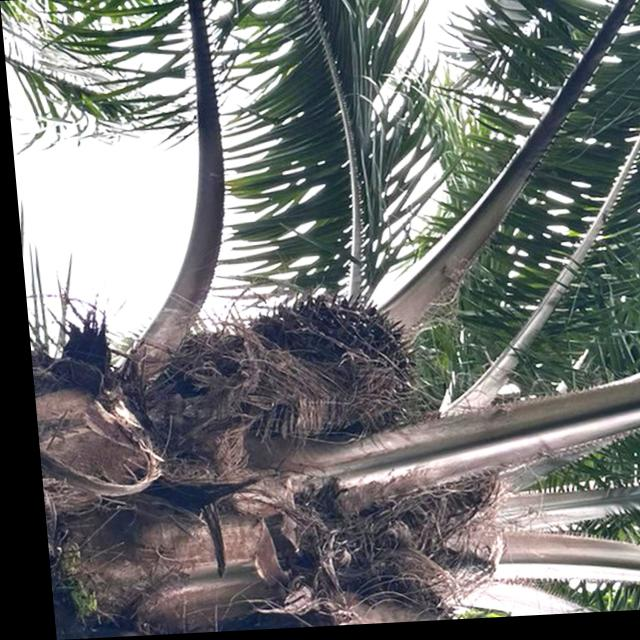almost: (224, 287, 413, 424)
